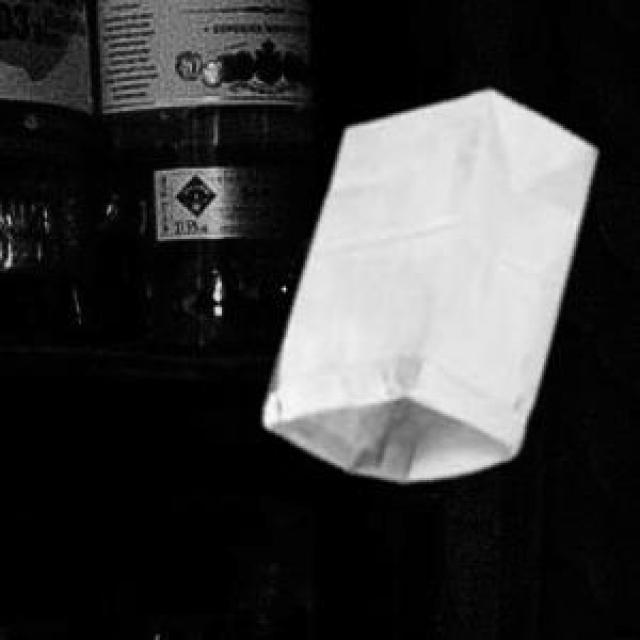paper: (260, 88, 593, 476)
